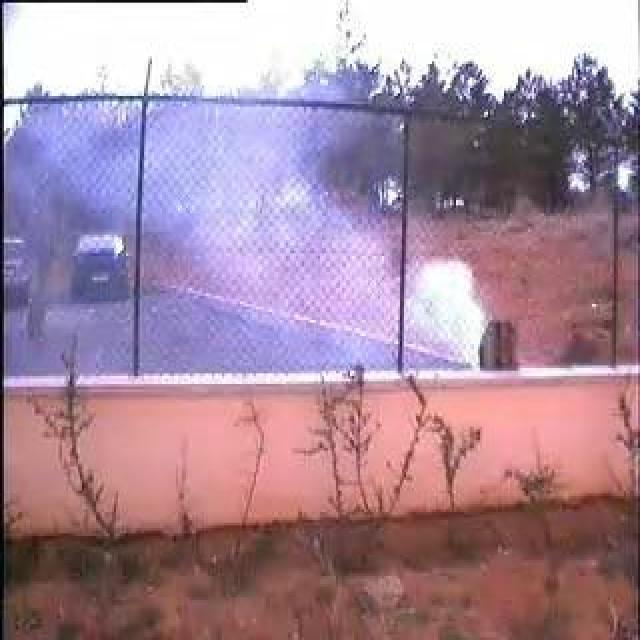Smoke: (146, 95, 484, 372)
